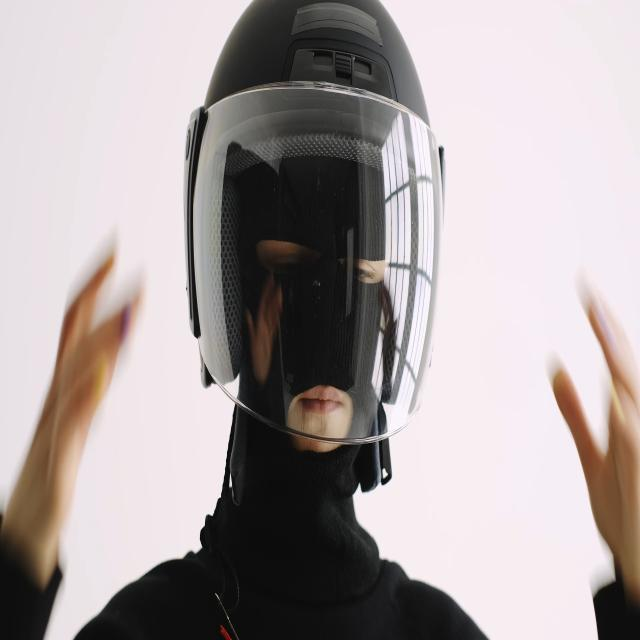Helmet_Wearer: (166, 0, 452, 560)
Person: (2, 0, 640, 640)
